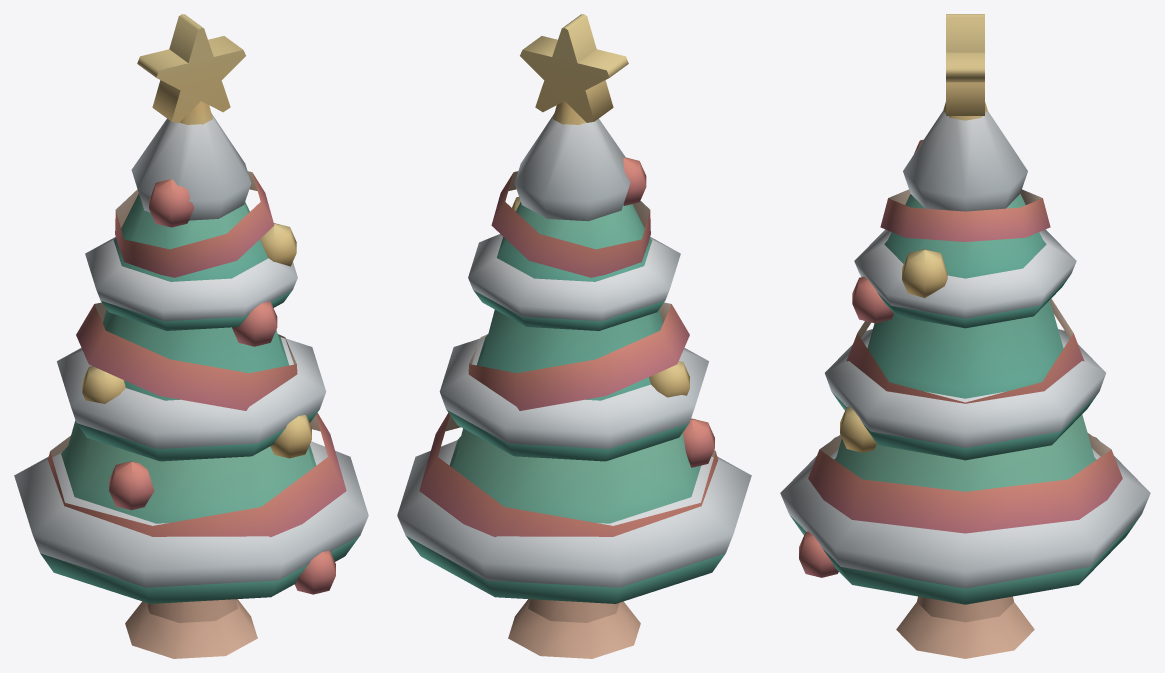
Rendered from tree_snow_e.glb.
3 views of the same model, side by side, from view 1: azimuth 30°, elevation 25°; view 2: azimuth 150°, elevation 25°; view 3: azimuth 270°, elevation 25° (orthographic).
Parts seen in each view (by area): view 1: tree_snow_e; view 2: tree_snow_e; view 3: tree_snow_e.
Boxes of the visible parts, x1,y1,x2,y2 form: tree_snow_e: (14, 14, 368, 658); tree_snow_e: (397, 14, 751, 658); tree_snow_e: (780, 14, 1150, 658).
Size of the model in its own units: 40.38 by 74 by 40.38.
